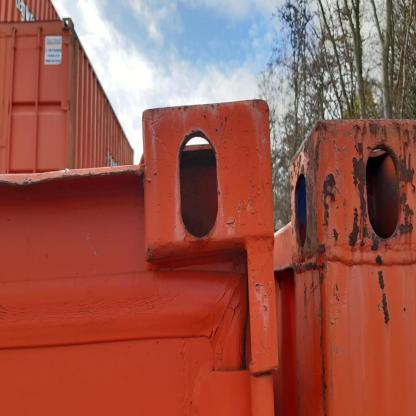CornerCasting: (135, 91, 274, 272), (292, 112, 416, 276)
